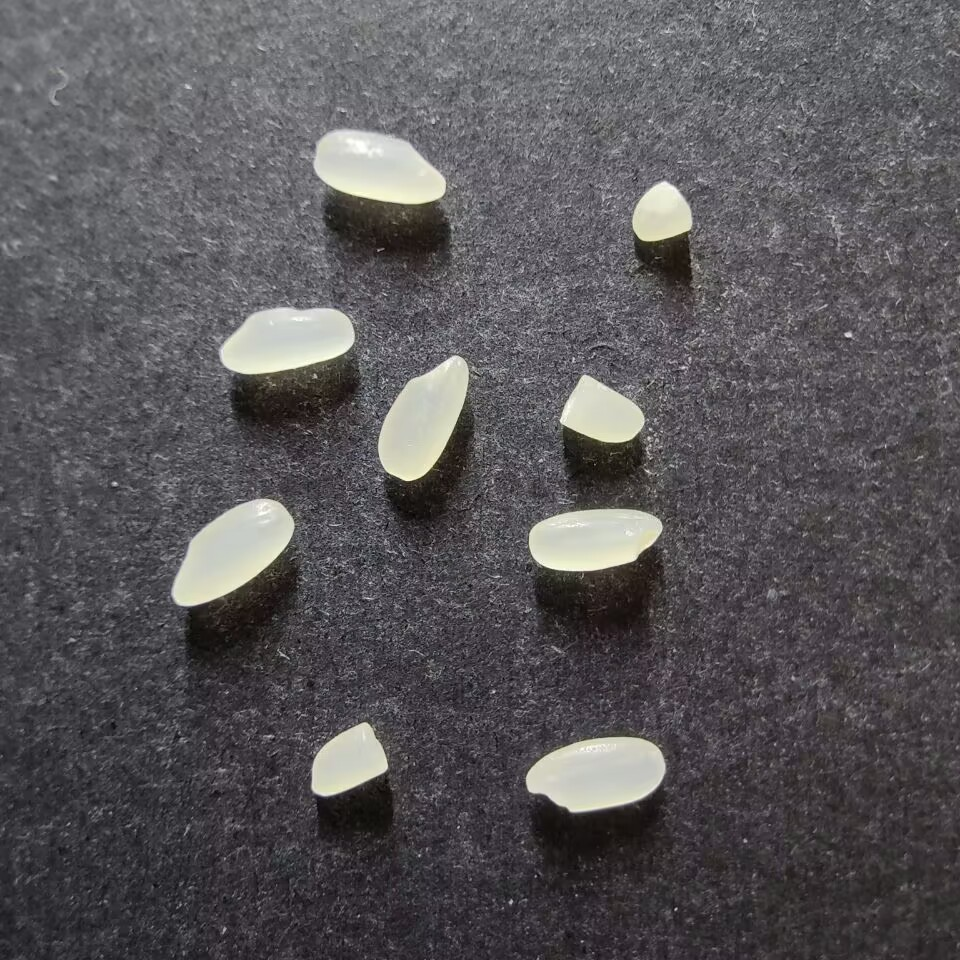broken: (559, 374, 646, 443), (309, 722, 388, 797), (631, 180, 693, 242)
rice: (170, 497, 294, 606), (377, 354, 468, 481), (525, 736, 666, 813), (312, 129, 446, 204), (219, 306, 355, 374), (528, 508, 663, 572)
